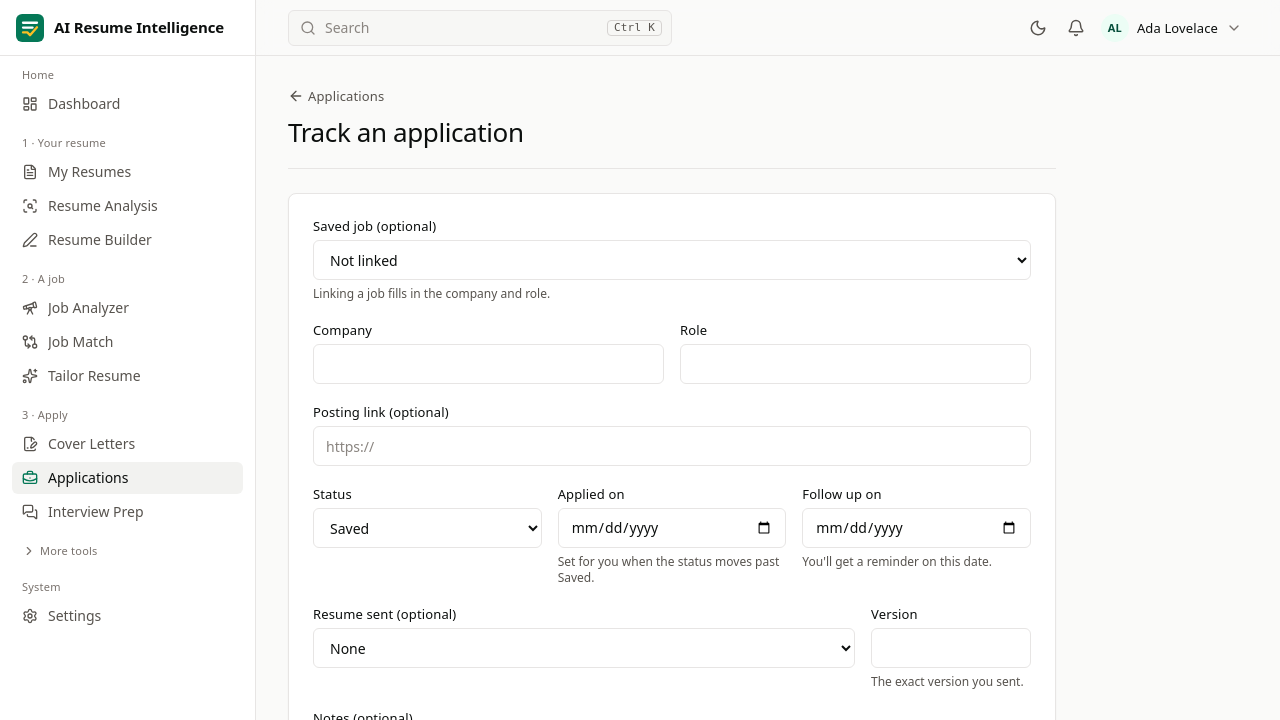
Applications › creates an application prefilled from a job, with the resume's current version
Select "Platform Engineer · Initech" in the dropdown labelled "Saved job (optional)" at (672, 260), box [313, 240, 1031, 280]
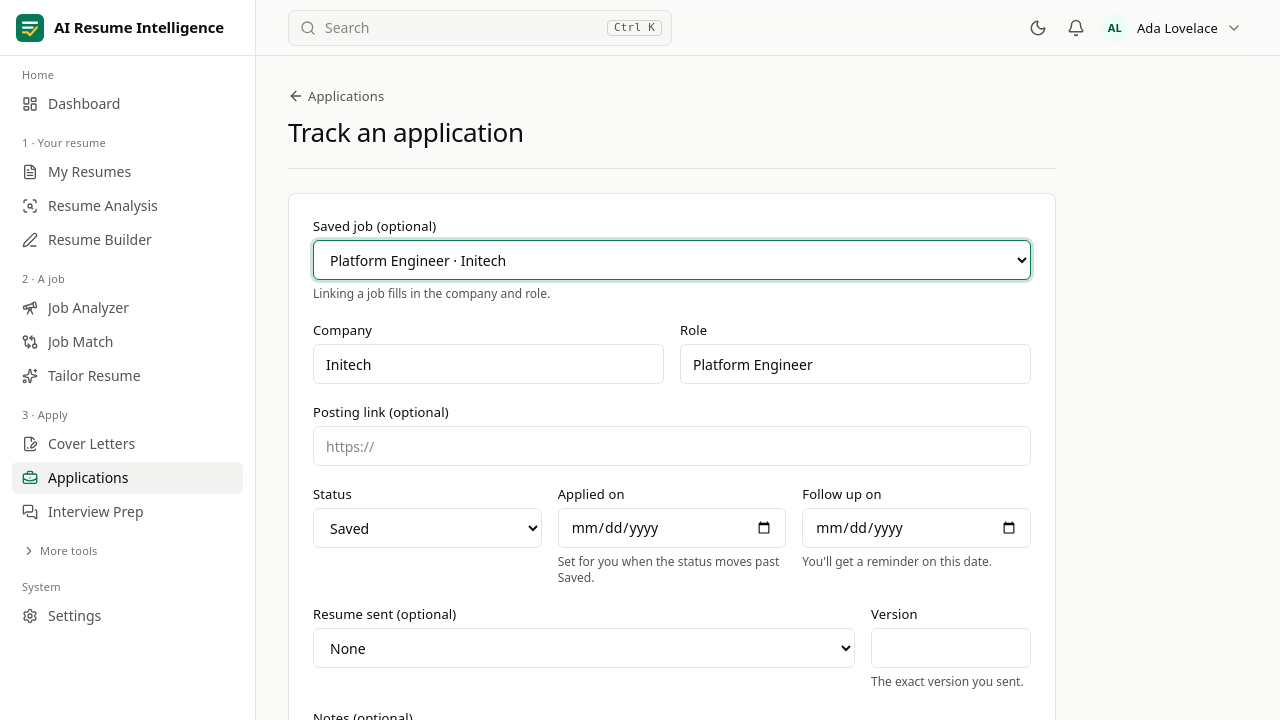
Now the field labelled "Company" holds "Initech", box [313, 344, 664, 384]
Now the field labelled "Role" holds "Platform Engineer", box [680, 344, 1031, 384]
Select "Master: Master resume" in the dropdown labelled "Resume sent (optional)" at (584, 648), box [313, 628, 855, 668]
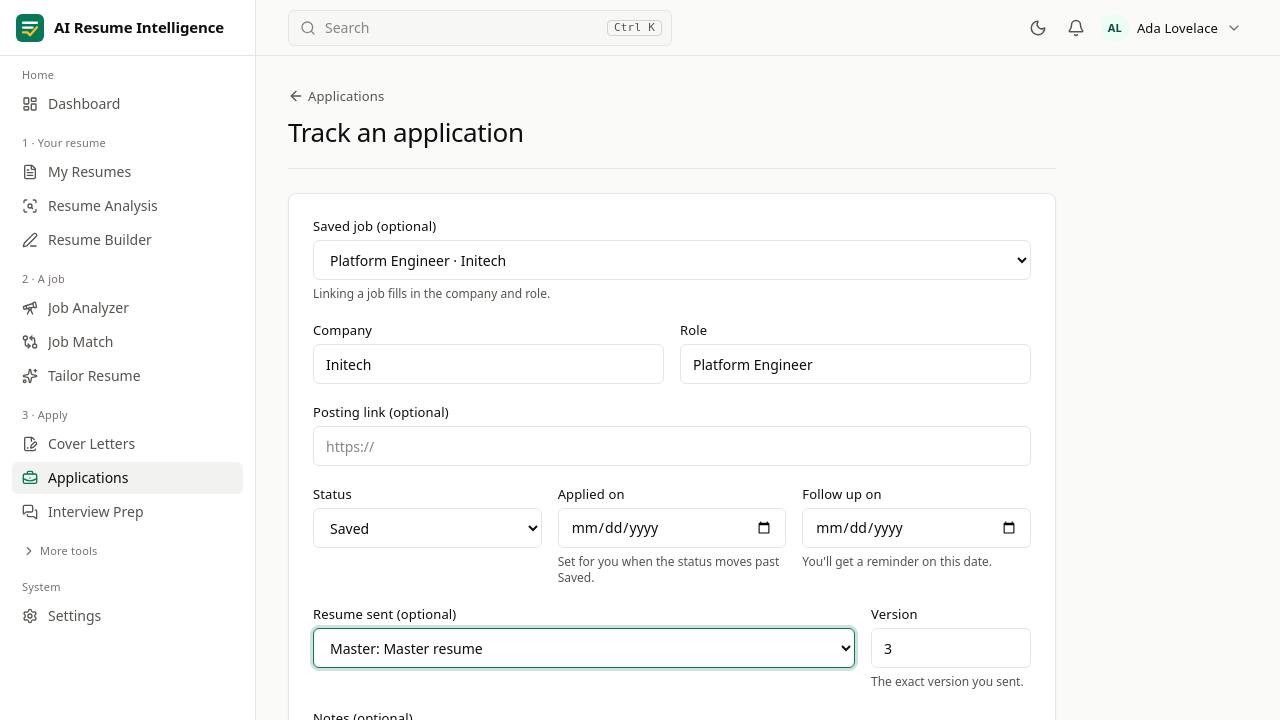
Now the field labelled "Version" holds "3", box [871, 628, 1031, 668]
Type "not a link" into the field labelled "Posting link (optional)".
click(672, 446); type("not a link")  # box [313, 426, 1031, 466]
(page scrolled)
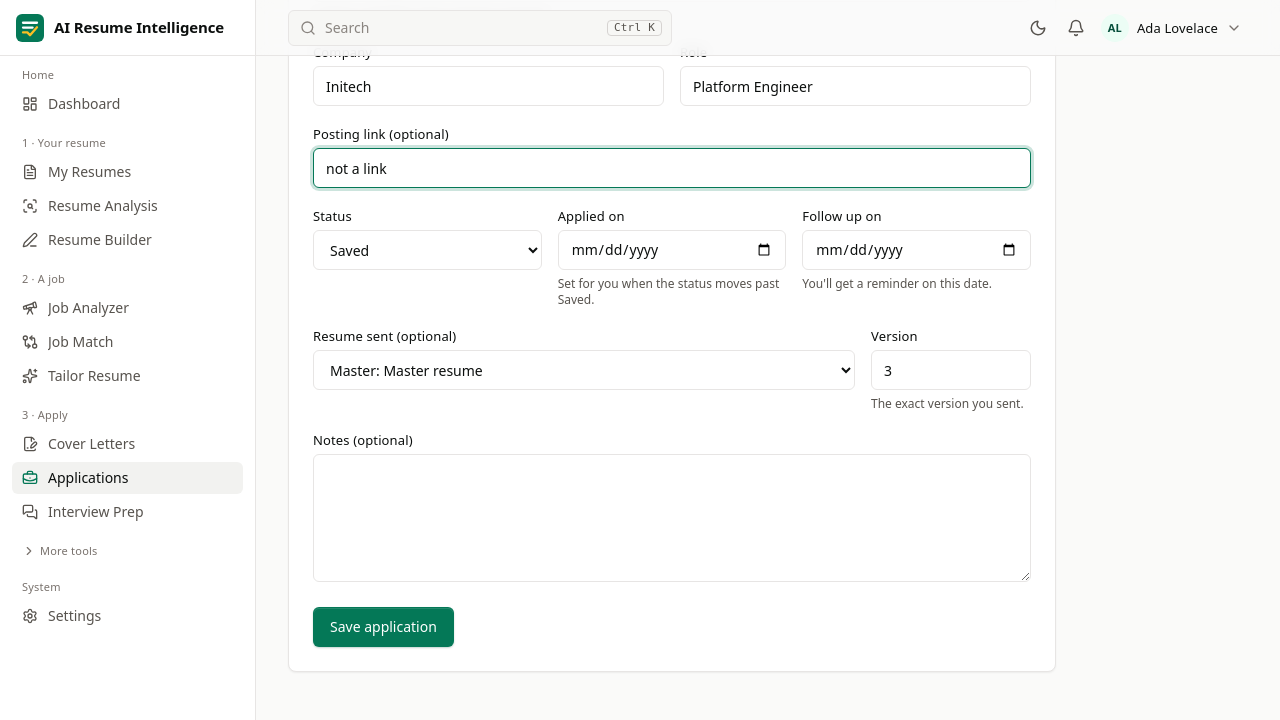
Click the button "Save application".
click(383, 627)  # box [313, 607, 454, 647]
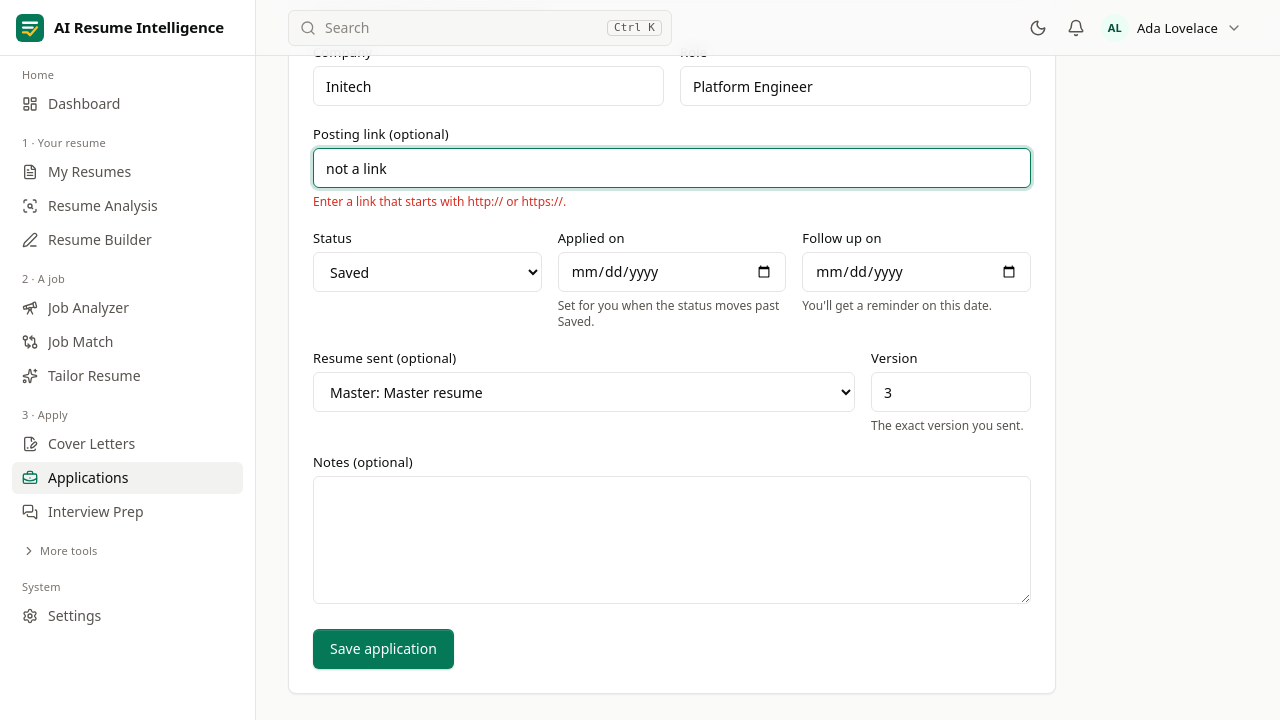
Now the text "Enter a link that starts with http:// or https://." is shown, box [313, 193, 566, 210]
Clear the field labelled "Posting link (optional)" at (672, 168), box [313, 148, 1031, 188]
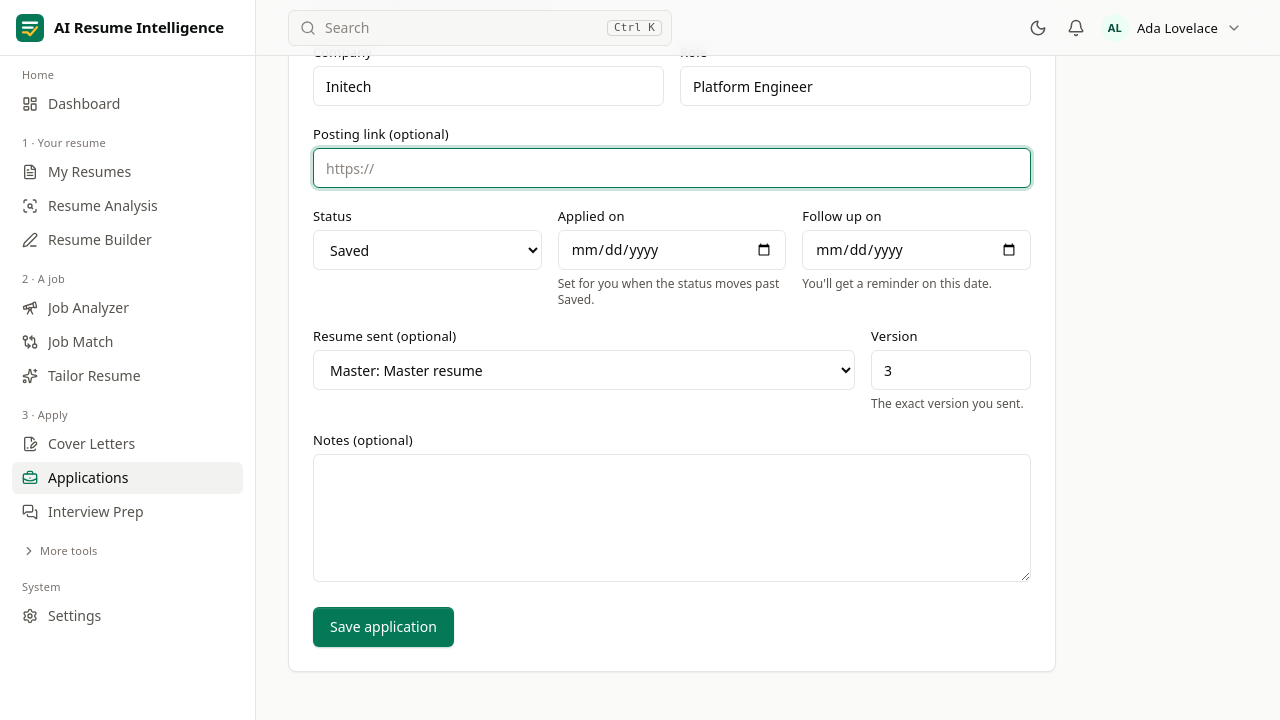
Click the button "Save application".
click(383, 627)  # box [313, 607, 454, 647]
(page scrolled)
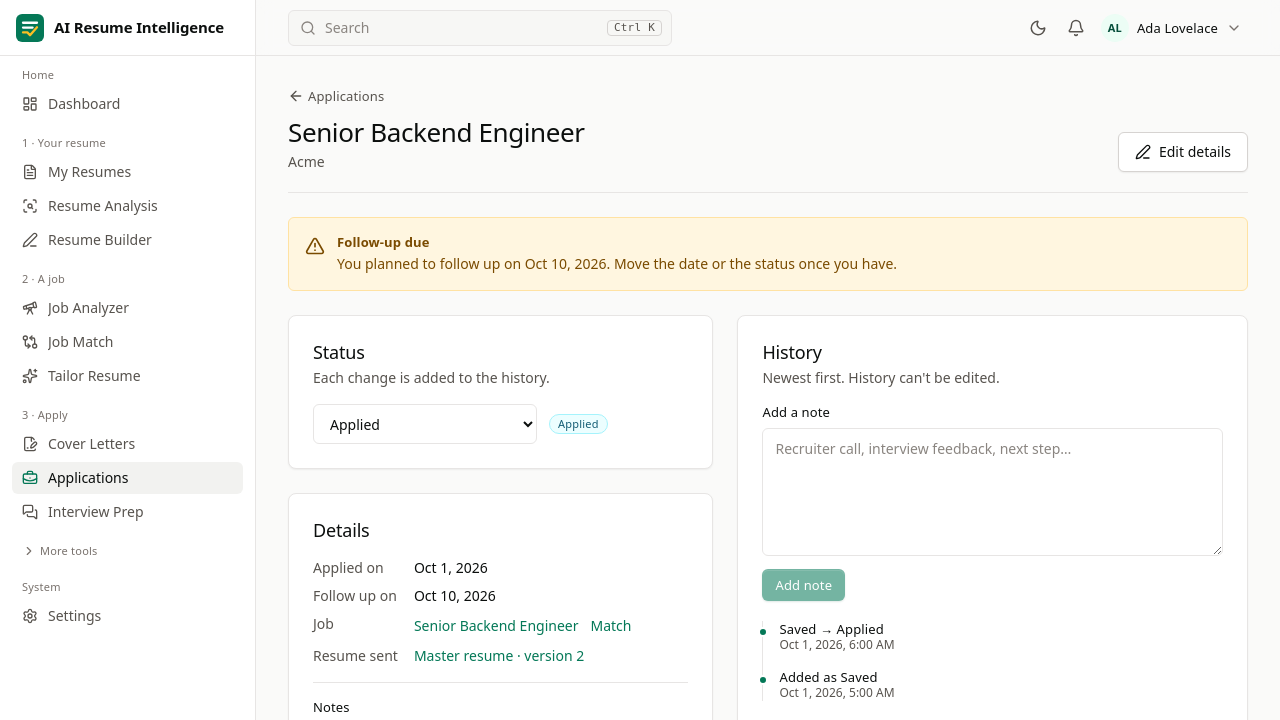
Now the heading "Senior Backend Engineer" is shown, box [288, 116, 585, 148]
